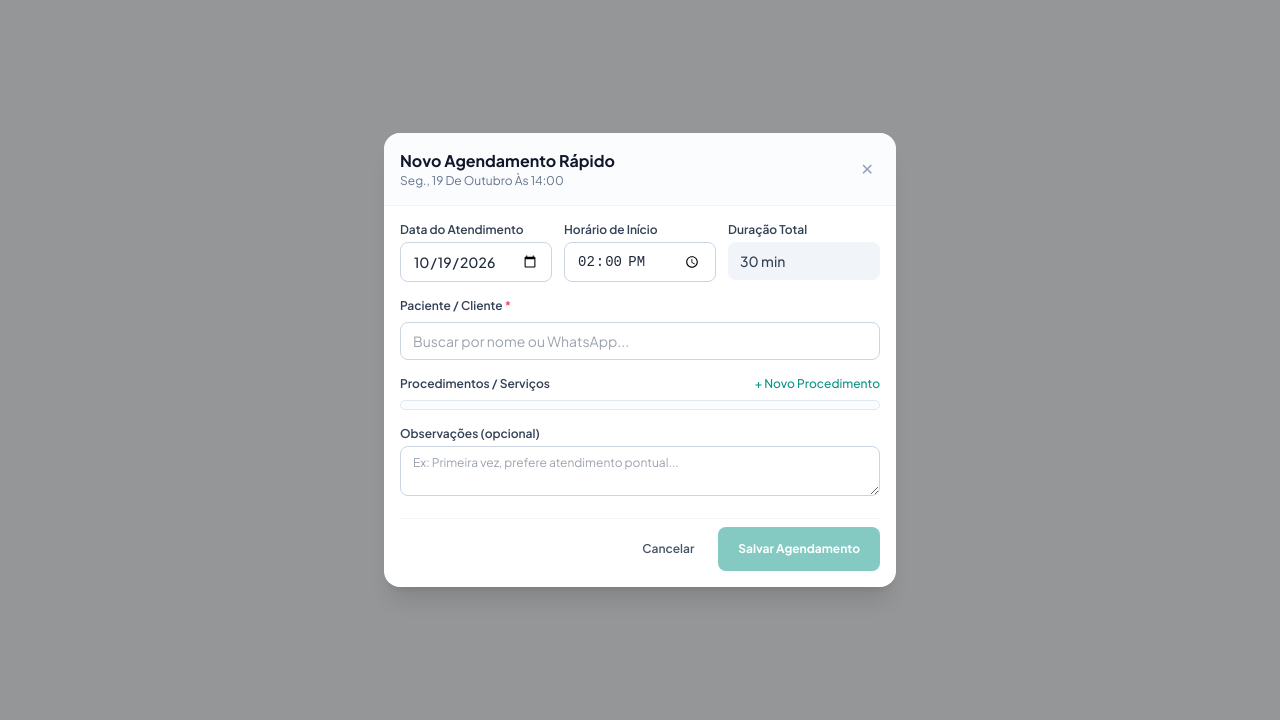
it: Feature: correcao-data-agendamento-rapido › US-066 — Seleção Dinâmica de Data no Card/Gaveta de Agendamento Rápido › AC-109: Validação de Conflito Reativo ao Alterar a Data @spec:AC-109
# Altera a data para 2026-10-21 (onde há consulta no mesmo horário)
Type "2026-10-21" into the date field with test id "input-appointment-date" at (476, 262), box [400, 242, 552, 282]
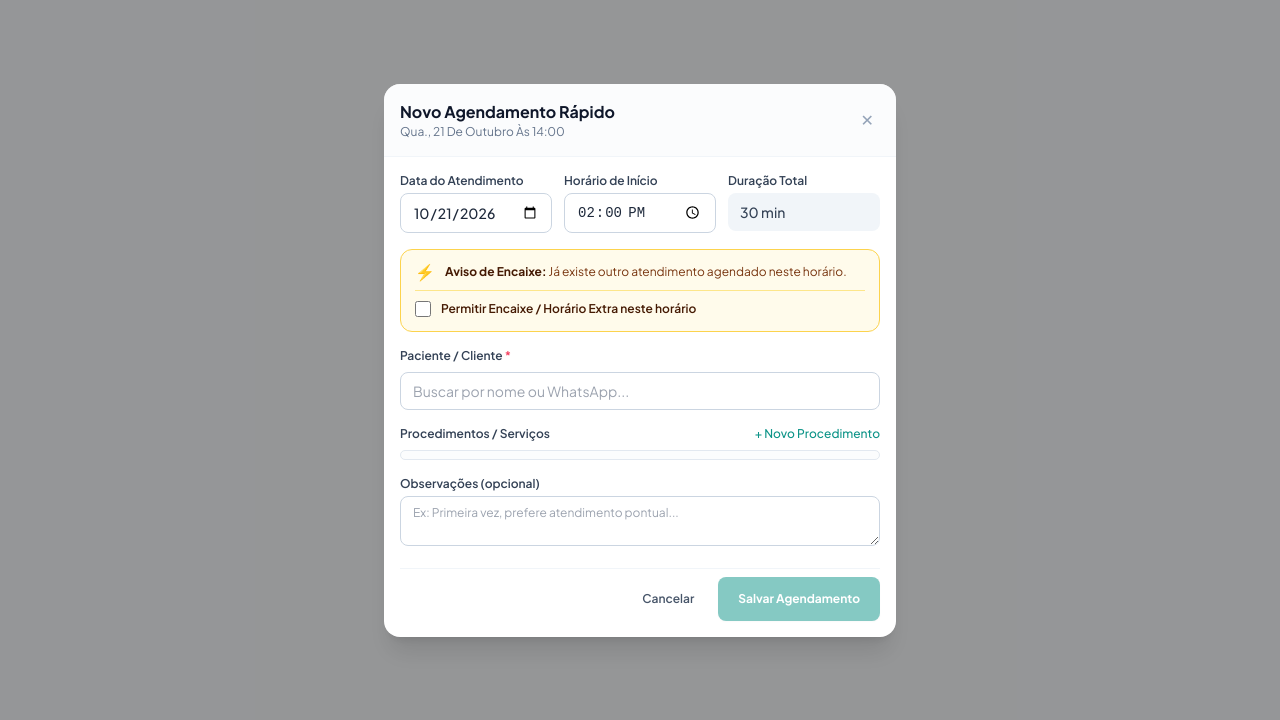
Expected: the element with test id "encaixe-warning" is shown, [400, 248, 880, 332]
# Se mudar novamente para outro dia (ex: 2026-10-22), o aviso deve sumir
Type "2026-10-22" into the date field with test id "input-appointment-date" at (476, 212), box [400, 192, 552, 232]
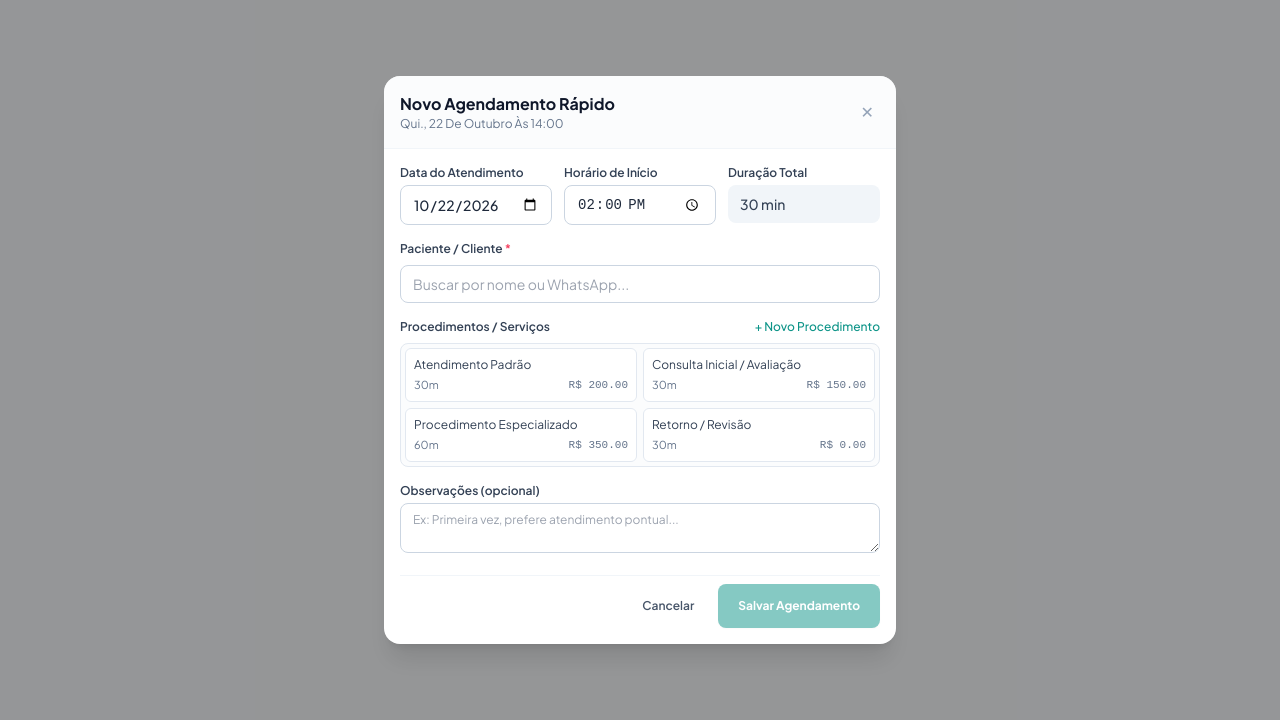
Expected: the element with test id "encaixe-warning" is gone
